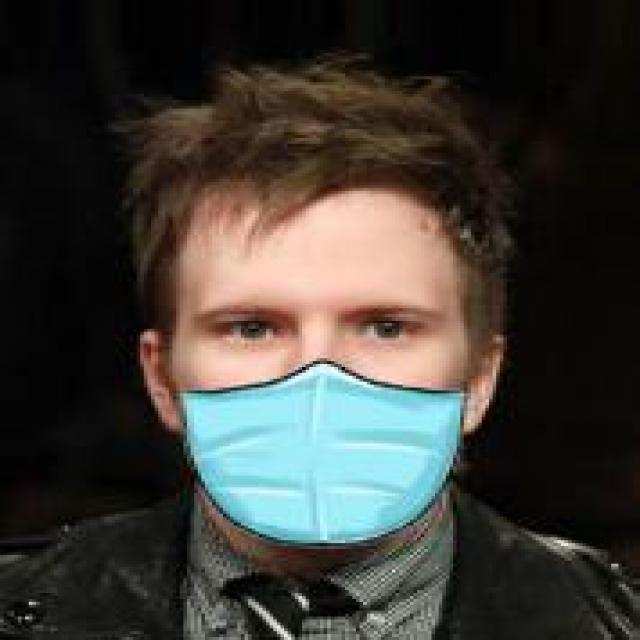mask: (115, 91, 525, 567)
